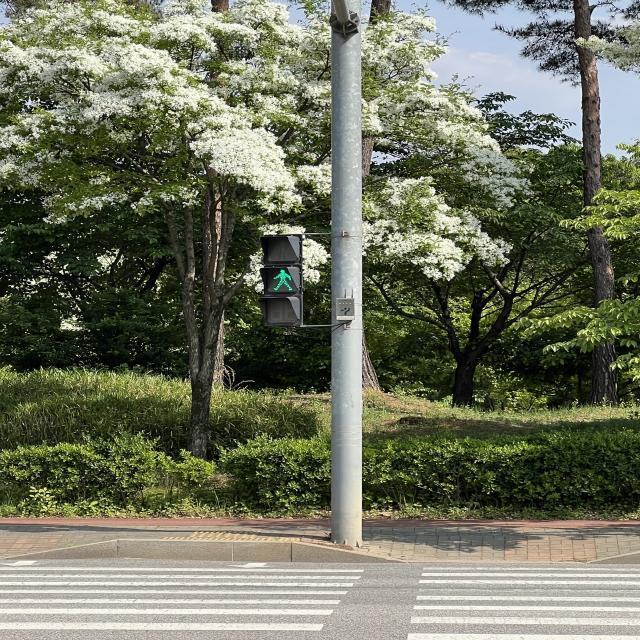crosswalk: (6, 531, 639, 640)
geen-crossing: (255, 233, 312, 330)
